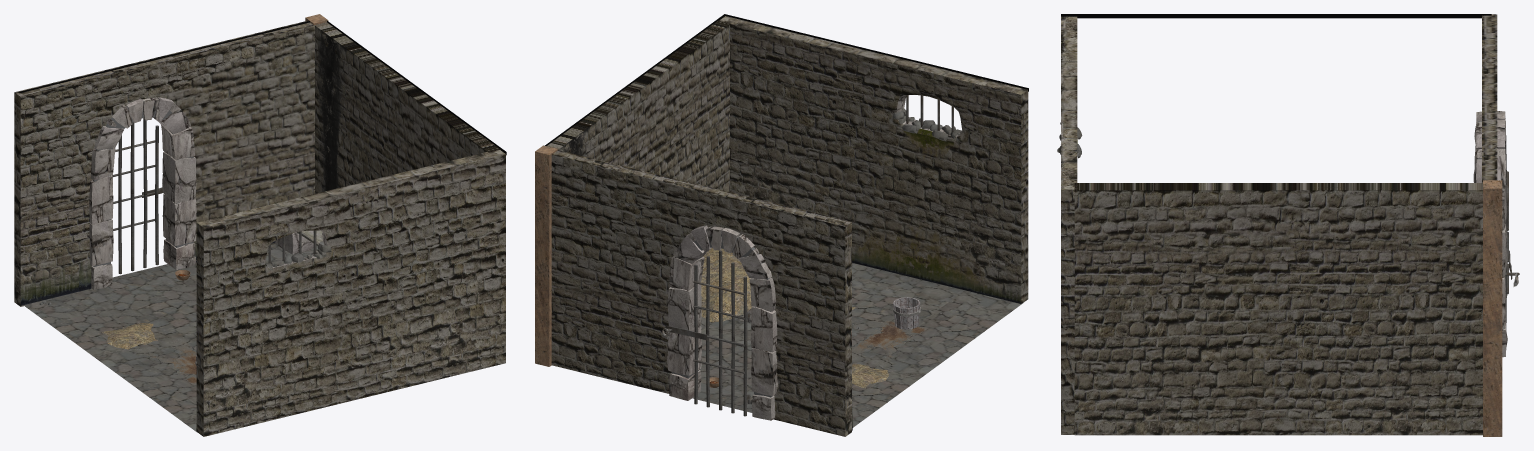
File: prison_room.glb
The picture shows the model from 3 angles, left to right: view 1: azimuth 30°, elevation 25°; view 2: azimuth 150°, elevation 25°; view 3: azimuth 270°, elevation 25°; orthographic projection. The views are drawn at different scales.
Parts seen in each view (by area): view 1: wall_3, wall_1, wall_2, floor1, arc, pPlane14, metal_door, pPlane7, pPlane10, pCube23, pPlane16, wind_stones (+1 smaller); view 2: wall_3, wall_1, wall_2, floor1, arc, pCube70, metal_door, pPlane12, pCube21, pPlane13, pPlane10, pPlane16 (+4 smaller); view 3: wall_2, wall_3, pCube70, wall_1, pPlane10, arc, metal_door.
Part boxes in pixels (x1,y1,x2,y2): wall_3: (196, 150, 505, 436); wall_1: (14, 20, 314, 306); wall_2: (315, 22, 500, 193); floor1: (24, 244, 318, 432); arc: (89, 97, 196, 289); pPlane14: (315, 26, 353, 191); metal_door: (112, 119, 162, 274); pPlane7: (20, 254, 91, 305); pPlane10: (19, 21, 506, 155); pCube23: (102, 323, 157, 349); pPlane16: (142, 341, 196, 383); wind_stones: (265, 241, 331, 269); wall_3: (719, 16, 1028, 303); wall_1: (551, 150, 851, 436); wall_2: (547, 20, 730, 191); floor1: (692, 263, 1022, 427); arc: (667, 225, 777, 420); pCube70: (535, 145, 557, 366); metal_door: (665, 250, 750, 416); pPlane12: (852, 222, 987, 289); pCube21: (700, 247, 751, 322); pPlane13: (852, 246, 1021, 303); pPlane10: (545, 14, 1028, 145); pPlane16: (852, 321, 926, 363); wall_2: (1074, 183, 1482, 435); wall_3: (1061, 16, 1077, 434); pCube70: (1483, 180, 1502, 436); wall_1: (1482, 14, 1497, 183); pPlane10: (1061, 14, 1491, 18); arc: (1473, 111, 1507, 357); metal_door: (1505, 143, 1512, 328).
Bounding box in the file's own units: 14.44 × 9.64 × 16.
Materials: 19 (17 with a texture image).
